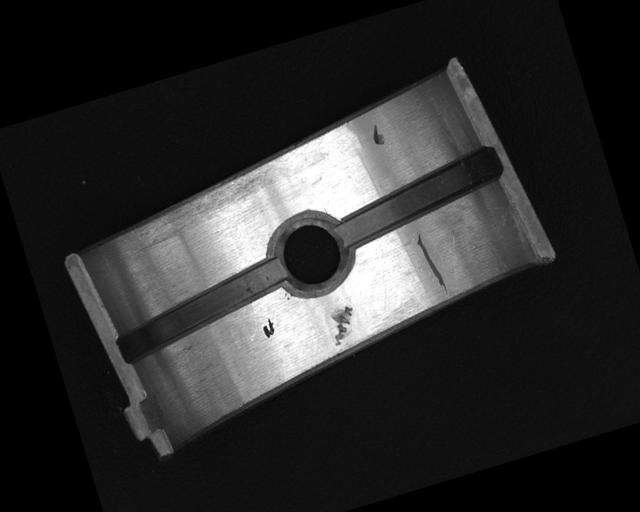blot: (258, 315, 278, 340)
bruise: (324, 304, 361, 347), (369, 123, 386, 147)
gap: (107, 255, 297, 364), (327, 146, 510, 252)
hole: (263, 203, 359, 301)
nick: (414, 229, 449, 298)
scratch: (128, 158, 288, 250)
